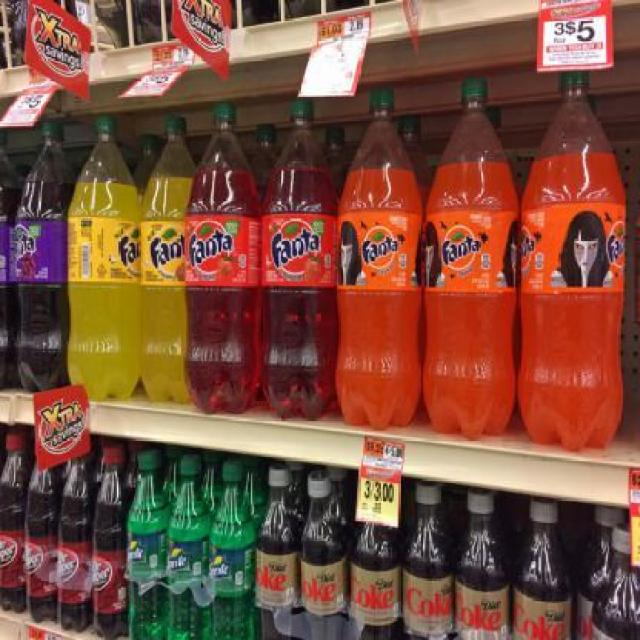Drinks: (522, 70, 628, 452), (425, 80, 521, 440), (339, 87, 423, 431), (259, 95, 338, 420), (185, 104, 261, 416), (68, 113, 140, 399), (15, 115, 68, 392), (140, 114, 186, 400), (402, 481, 456, 639), (512, 497, 572, 638), (348, 484, 402, 639), (454, 487, 509, 639), (211, 458, 257, 639), (298, 470, 347, 639), (166, 455, 211, 639), (126, 450, 168, 639), (255, 464, 300, 638), (92, 444, 125, 639), (58, 448, 91, 634), (26, 437, 57, 623), (0, 431, 28, 612)
